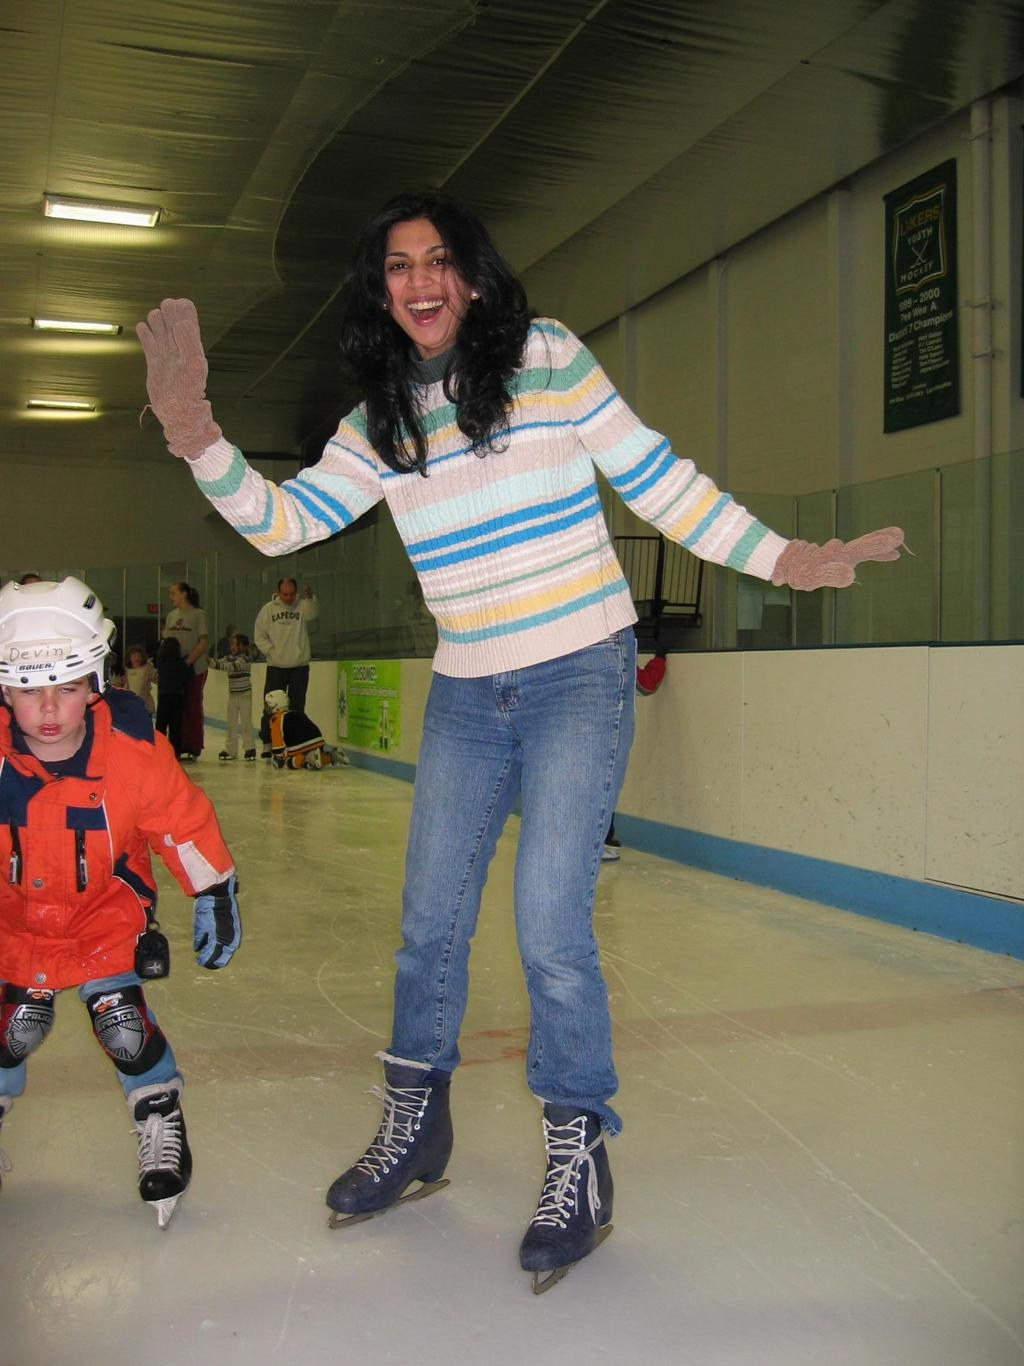face: (384, 218, 468, 347), (10, 669, 87, 743)
